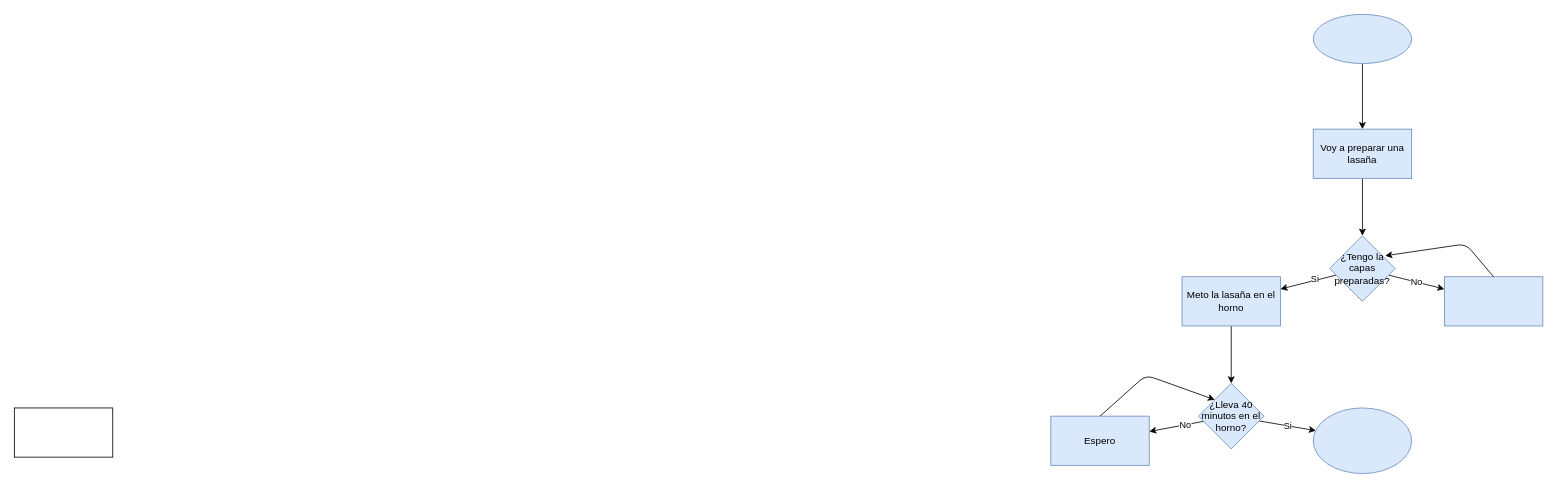
Image size: 1557x488. Some labels were removed from this diagram. The shapes that lost their labels are listed below. From the top down, each one's box as (x1, y1, x2, y2) in pixels, then its label:
(1312, 14, 1412, 64): Inicio
(1444, 276, 1543, 326): Preparo las capas, 2 minutos por cada
(1312, 407, 1412, 474): Fin
